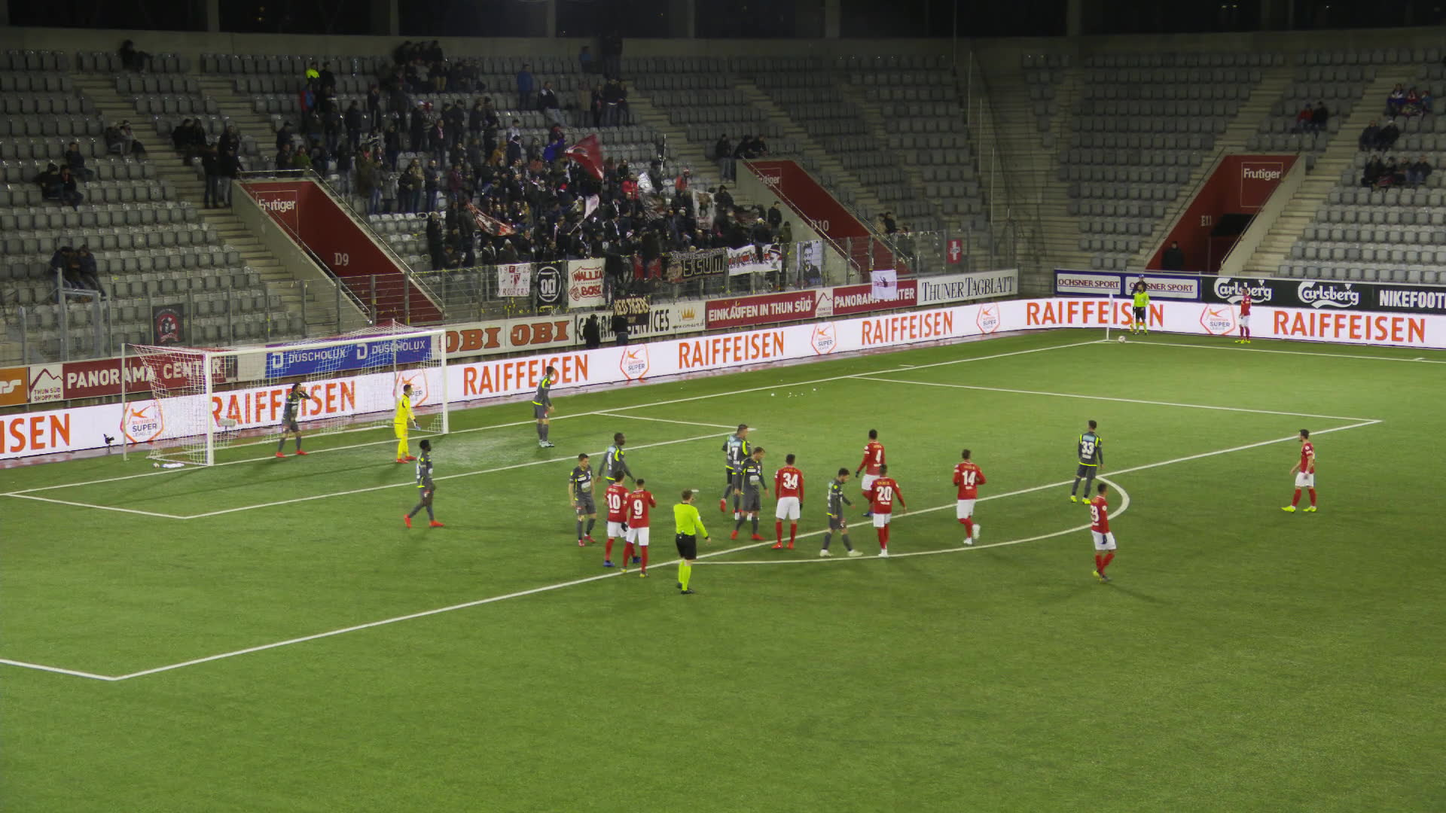ball: (1118, 336, 1124, 342)
player: (728, 446, 767, 540), (404, 438, 444, 527), (868, 464, 905, 557), (620, 479, 655, 576), (603, 470, 636, 568), (771, 454, 804, 548), (819, 467, 853, 558), (953, 446, 984, 545), (855, 428, 889, 516), (1069, 419, 1103, 503), (274, 382, 312, 457), (1087, 482, 1115, 583), (569, 452, 598, 546), (599, 432, 636, 504), (717, 421, 745, 514), (1287, 428, 1317, 513), (395, 384, 423, 463), (731, 425, 754, 520), (530, 366, 555, 448), (1234, 287, 1251, 343)
referee: (668, 488, 709, 593), (1131, 284, 1149, 335)
